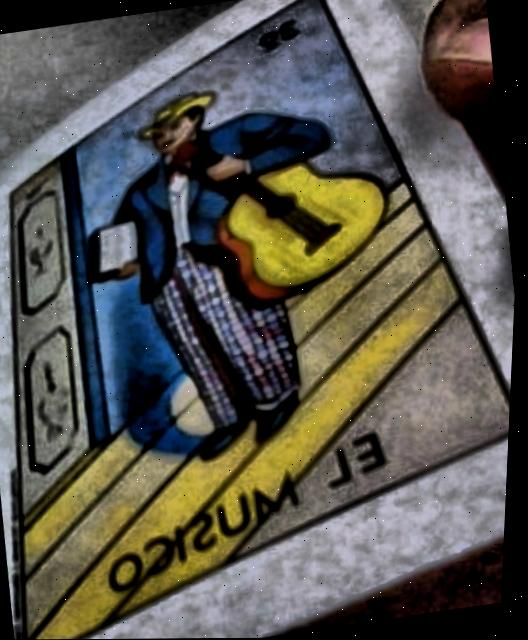El Musico: (10, 0, 514, 640)
